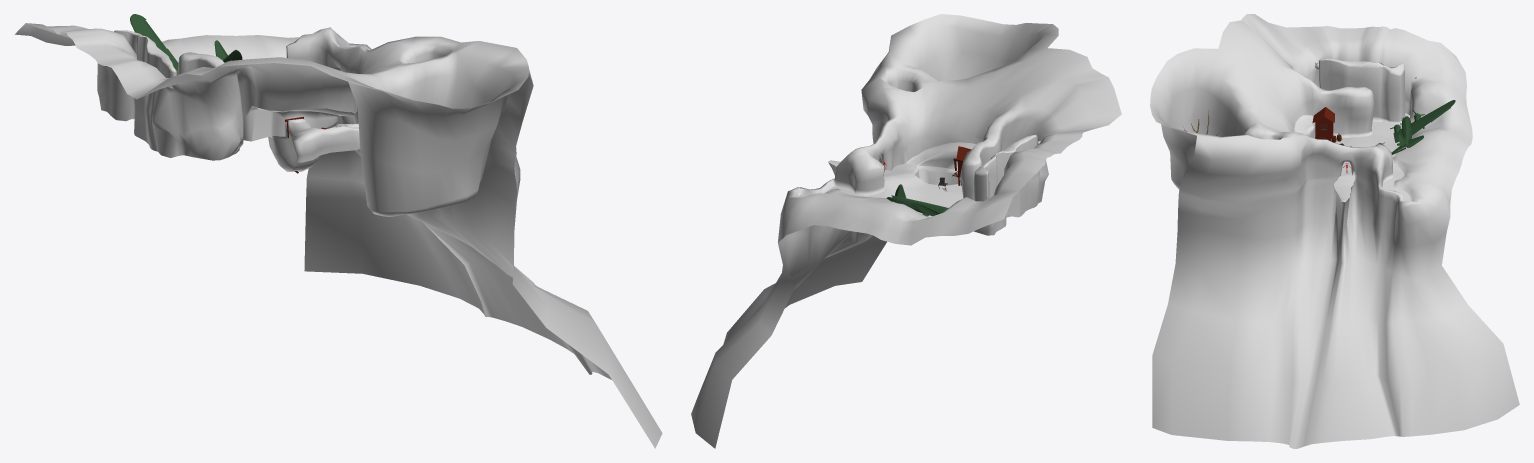
File: Scene Whitebox.fbx
3 renders of one model, left to right at view 1: azimuth 30°, elevation 25°; view 2: azimuth 150°, elevation 25°; view 3: azimuth 270°, elevation 25°, orthographic. The views are drawn at different scales.
Visible parts, largest first — view 1: Terrain, Body; view 2: Terrain, Ground, Body; view 3: Terrain, Ground, Body, Shed.
Boxes of the visible parts, x1=… form: Terrain: x1=15, y1=23, x2=662, y2=448; Body: x1=130, y1=14, x2=236, y2=74; Terrain: x1=691, y1=14, x2=1121, y2=448; Ground: x1=799, y1=142, x2=1011, y2=217; Body: x1=888, y1=184, x2=948, y2=215; Terrain: x1=1150, y1=14, x2=1519, y2=448; Ground: x1=1294, y1=113, x2=1410, y2=202; Body: x1=1391, y1=100, x2=1455, y2=153; Shed: x1=1312, y1=107, x2=1334, y2=141.
Bounding box in the file's own units: 7121 × 6344 × 7169.
